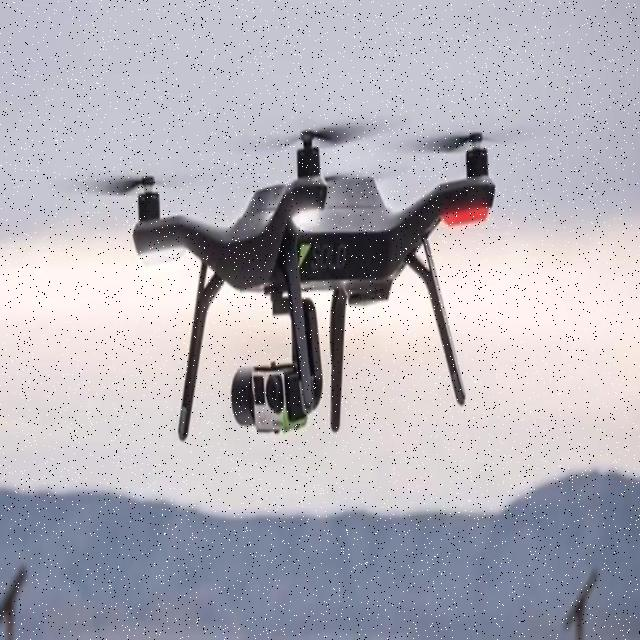UAV: (78, 113, 522, 443)
